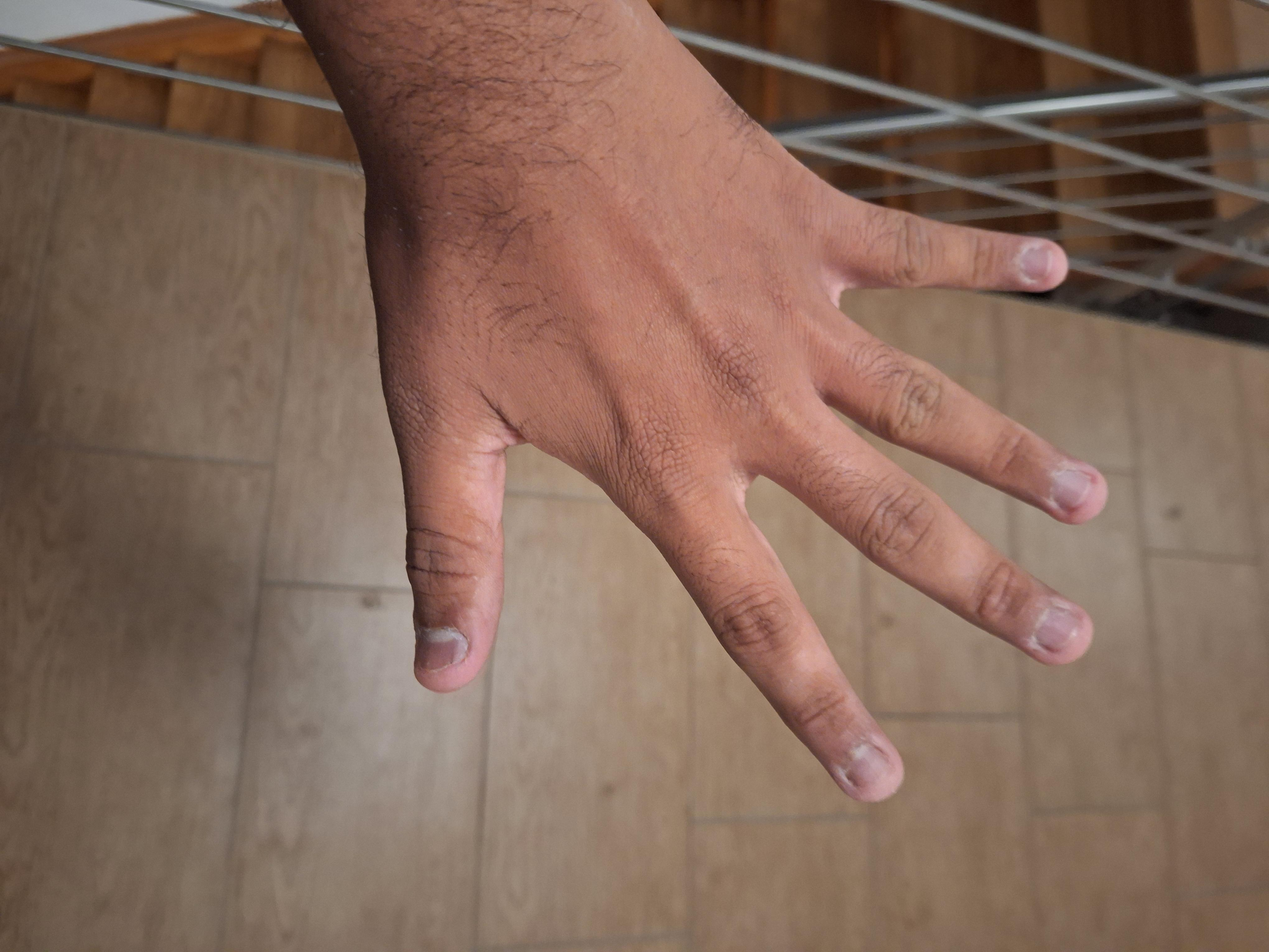Fingernail: (417, 630, 469, 672), (847, 744, 893, 789), (1037, 608, 1081, 651), (1053, 471, 1092, 507), (1019, 249, 1050, 281)
